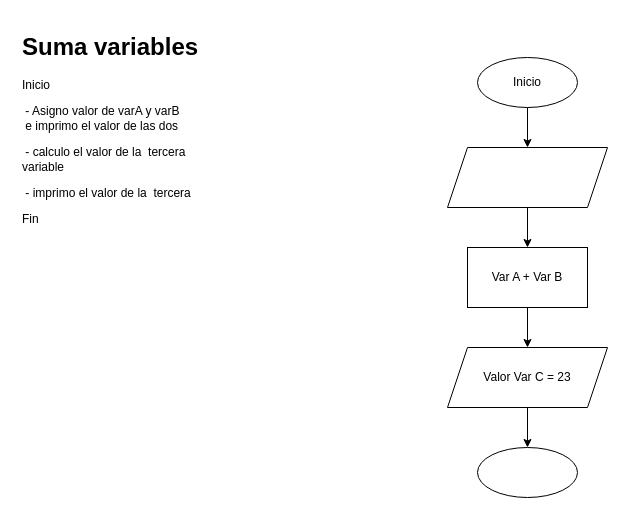
Image size: 625x515. Some labels were removed from this diagram. The shapes that lost their labels are listed below. From the top down, each one's box as (x1, y1, x2, y2) in pixels, then its label:
(446, 146, 608, 208): Valor variable A = 11 Valor variable B = 12
(476, 446, 578, 498): Fin
